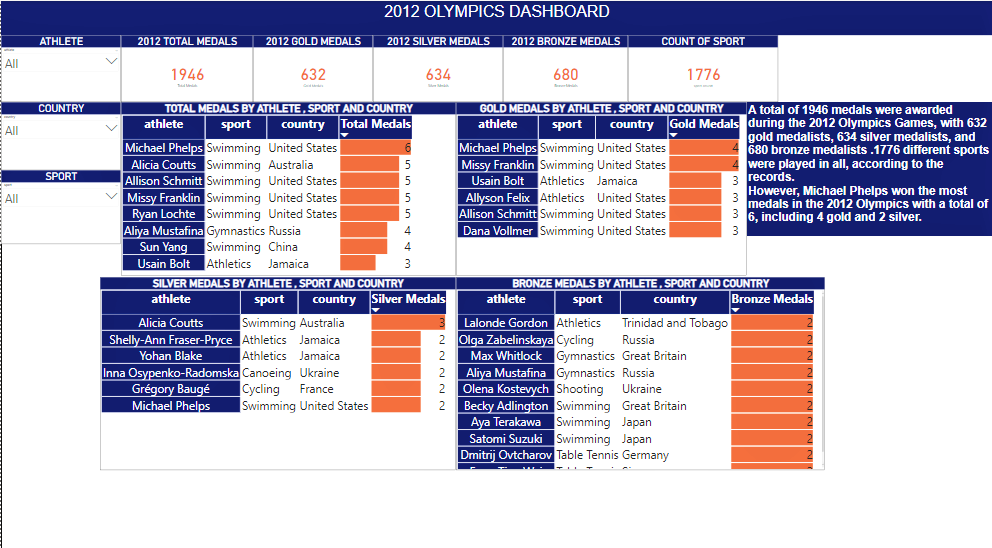

Layout of this report page (visuals, bound fields, positions):
{"tool":"powerbi","page":{"name":"2012 OLYMPICS REPORT","canvas":[4500,2500],"ordinal":6},"visuals":[{"type":"textbox","box":[0,0,4500,154.8],"z":0},{"type":"slicer","title":"ATHLETE","fields":{"Values":["2012 olympics.athlete"]},"box":[0,154.3,544.5,304],"z":1000},{"type":"slicer","title":"COUNTRY","fields":{"Values":["2012 olympics.country"]},"box":[0,458.3,544.5,308.5],"z":2000},{"type":"slicer","title":"SPORT","fields":{"Values":["2012 olympics.sport"]},"box":[0,766.8,544.5,335.8],"z":3000},{"type":"card","title":"2012 TOTAL MEDALS","fields":{"Values":["Sum(2012 olympics.Total Medals)"]},"box":[544.5,154.3,598.9,304],"z":4000},{"type":"card","title":"2012 GOLD MEDALS","fields":{"Values":["Sum(2012 olympics.Gold Medals)"]},"box":[1143.4,154.3,544.5,304],"z":5000},{"type":"card","title":"2012 SILVER MEDALS","fields":{"Values":["Sum(2012 olympics.Silver Medals)"]},"box":[1687.8,154.3,589.8,304],"z":6000},{"type":"card","title":"2012 BRONZE MEDALS","fields":{"Values":["Sum(2012 olympics.Bronze Medals)"]},"box":[2277.7,154.3,567.2,304],"z":7000},{"type":"card","title":"COUNT OF SPORT","fields":{"Values":["2012 olympics.sport countt"]},"box":[2844.8,154.3,680.6,304],"z":8000},{"type":"tableEx","title":"TOTAL MEDALS  BY ATHLETE , SPORT AND COUNTRY","fields":{"Values":["2012 olympics.athlete","2012 olympics.sport","2012 olympics.country","Sum(2012 olympics.Total Medals)"]},"box":[544.5,458.3,1520,789.5],"z":8001},{"type":"tableEx","title":"GOLD MEDALS  BY ATHLETE , SPORT AND COUNTRY","fields":{"Values":["2012 olympics.athlete","2012 olympics.sport","2012 olympics.country","Sum(2012 olympics.Gold Medals)"]},"box":[2064.4,458.3,1320.3,789.5],"z":8002},{"type":"tableEx","title":"SILVER MEDALS  BY ATHLETE , SPORT AND COUNTRY","fields":{"Values":["2012 olympics.athlete","2012 olympics.sport","2012 olympics.country","Sum(2012 olympics.Silver Medals)"]},"box":[449.2,1252.3,1615.2,875.7],"z":8003},{"type":"tableEx","title":"BRONZE MEDALS  BY ATHLETE , SPORT AND COUNTRY","fields":{"Values":["2012 olympics.athlete","2012 olympics.sport","2012 olympics.country","Sum(2012 olympics.Bronze Medals)"]},"box":[2064.4,1252.3,1674.2,875.7],"z":8004},{"type":"textbox","box":[3384.8,458.3,1116.2,608],"z":8005}]}

Visuals, with their boxes in screenshot pixels (x1, y1, x2, y2), scaled from the page's 4500x2500 canvas onto the 992x548 screenshot:
textbox: (x1=0, y1=0, x2=991, y2=34)
"ATHLETE" slicer: (x1=0, y1=34, x2=120, y2=100)
"COUNTRY" slicer: (x1=0, y1=100, x2=120, y2=168)
"SPORT" slicer: (x1=0, y1=168, x2=120, y2=242)
"2012 TOTAL MEDALS" card: (x1=120, y1=34, x2=252, y2=100)
"2012 GOLD MEDALS" card: (x1=252, y1=34, x2=372, y2=100)
"2012 SILVER MEDALS" card: (x1=372, y1=34, x2=502, y2=100)
"2012 BRONZE MEDALS" card: (x1=502, y1=34, x2=627, y2=100)
"COUNT OF SPORT" card: (x1=627, y1=34, x2=777, y2=100)
"TOTAL MEDALS  BY ATHLETE , SPORT AND COUNTRY" tableEx: (x1=120, y1=100, x2=455, y2=274)
"GOLD MEDALS  BY ATHLETE , SPORT AND COUNTRY" tableEx: (x1=455, y1=100, x2=746, y2=274)
"SILVER MEDALS  BY ATHLETE , SPORT AND COUNTRY" tableEx: (x1=99, y1=275, x2=455, y2=466)
"BRONZE MEDALS  BY ATHLETE , SPORT AND COUNTRY" tableEx: (x1=455, y1=275, x2=824, y2=466)
textbox: (x1=746, y1=100, x2=991, y2=234)
